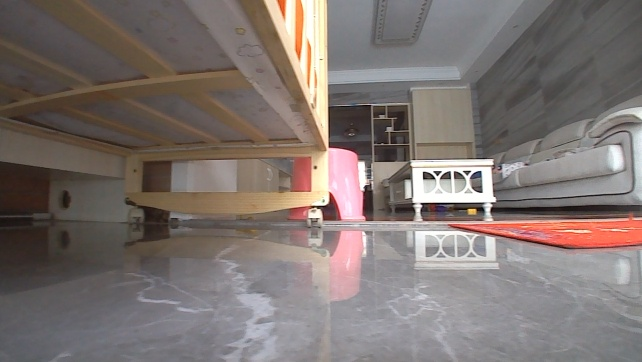blanket: (447, 217, 641, 250)
sofa: (493, 92, 641, 213)
tea_table: (379, 156, 494, 216)
